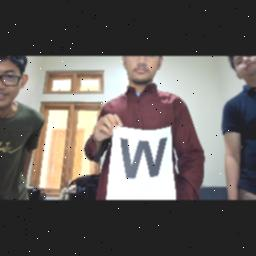w: (114, 134, 172, 182)
